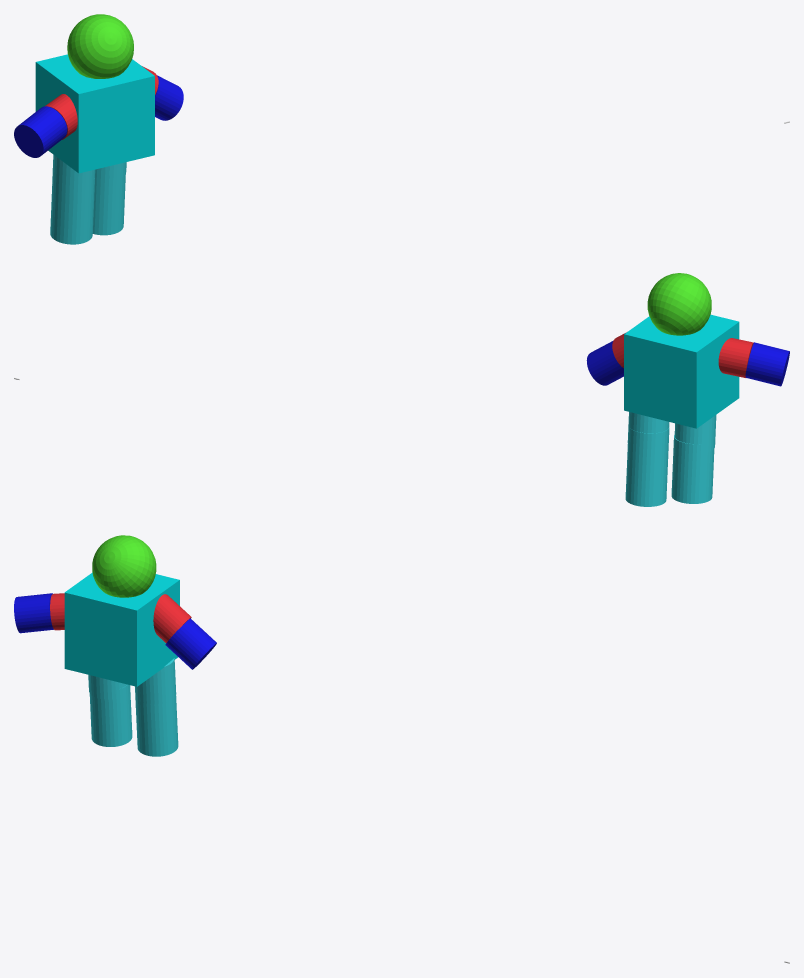
The model's file is Sean H bobby render.fbx.
3 views of the same model, one above another, from view 1: azimuth 30°, elevation 25°; view 2: azimuth 150°, elevation 25°; view 3: azimuth 330°, elevation 25° (orthographic). The views are drawn at different scales.
Parts seen in each view (by area): view 1: Cube.001, Sphere, Cylinder.007, Cylinder.006, Cylinder.003, Cylinder.004, Cylinder.002, Cylinder; view 2: Cube.001, Sphere, Cylinder.006, Cylinder.007, Cylinder.003, Cylinder.002, Cylinder, Cylinder.004, Cylinder.005; view 3: Cube.001, Sphere, Cylinder.006, Cylinder.007, Cylinder.002, Cylinder.003, Cylinder.005, Cylinder.001.
Boxes of the visible parts, box(x1,y1,x2,y2) form: Cube.001: box(35, 54, 154, 173); Sphere: box(67, 14, 133, 78); Cylinder.007: box(50, 178, 94, 244); Cylinder.006: box(92, 166, 125, 235); Cylinder.003: box(14, 106, 67, 157); Cylinder.004: box(52, 154, 95, 195); Cylinder.002: box(155, 75, 183, 120); Cylinder: box(45, 94, 77, 139); Cube.001: box(624, 314, 739, 428); Sphere: box(647, 273, 711, 335); Cylinder.006: box(625, 427, 669, 506); Cylinder.007: box(671, 435, 714, 503); Cylinder.003: box(745, 342, 789, 386); Cylinder.002: box(586, 341, 623, 385); Cylinder: box(718, 338, 753, 377); Cylinder.004: box(674, 415, 716, 452); Cylinder.005: box(627, 412, 669, 444); Cube.001: box(64, 572, 179, 686); Sphere: box(92, 535, 156, 597); Cylinder.006: box(135, 685, 178, 756); Cylinder.007: box(89, 684, 132, 746); Cylinder.002: box(165, 618, 216, 669); Cylinder.003: box(14, 593, 53, 633); Cylinder.005: box(139, 658, 176, 704); Cylinder.001: box(153, 594, 191, 642).
Size of the model in its own units: 2078 by 691 by 252.
